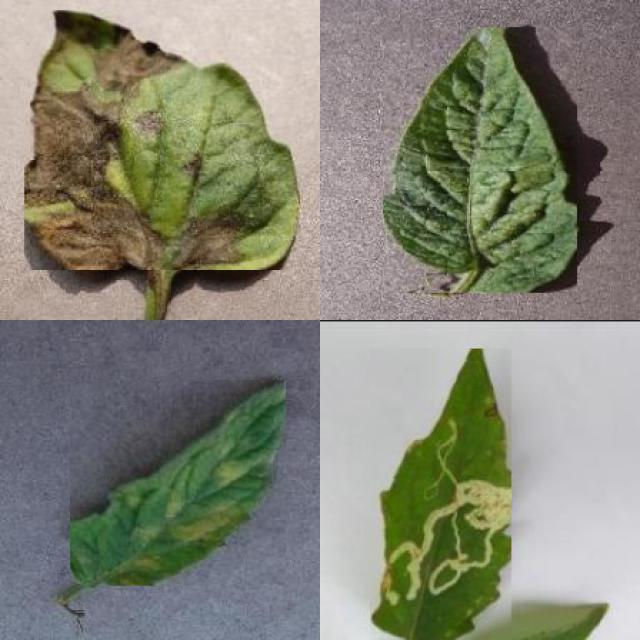Late Blight: (25, 11, 299, 270)
Leaf Miner: (369, 348, 511, 640)
Leaf Mold: (70, 380, 286, 586)
Spider Mites: (383, 27, 577, 293)
